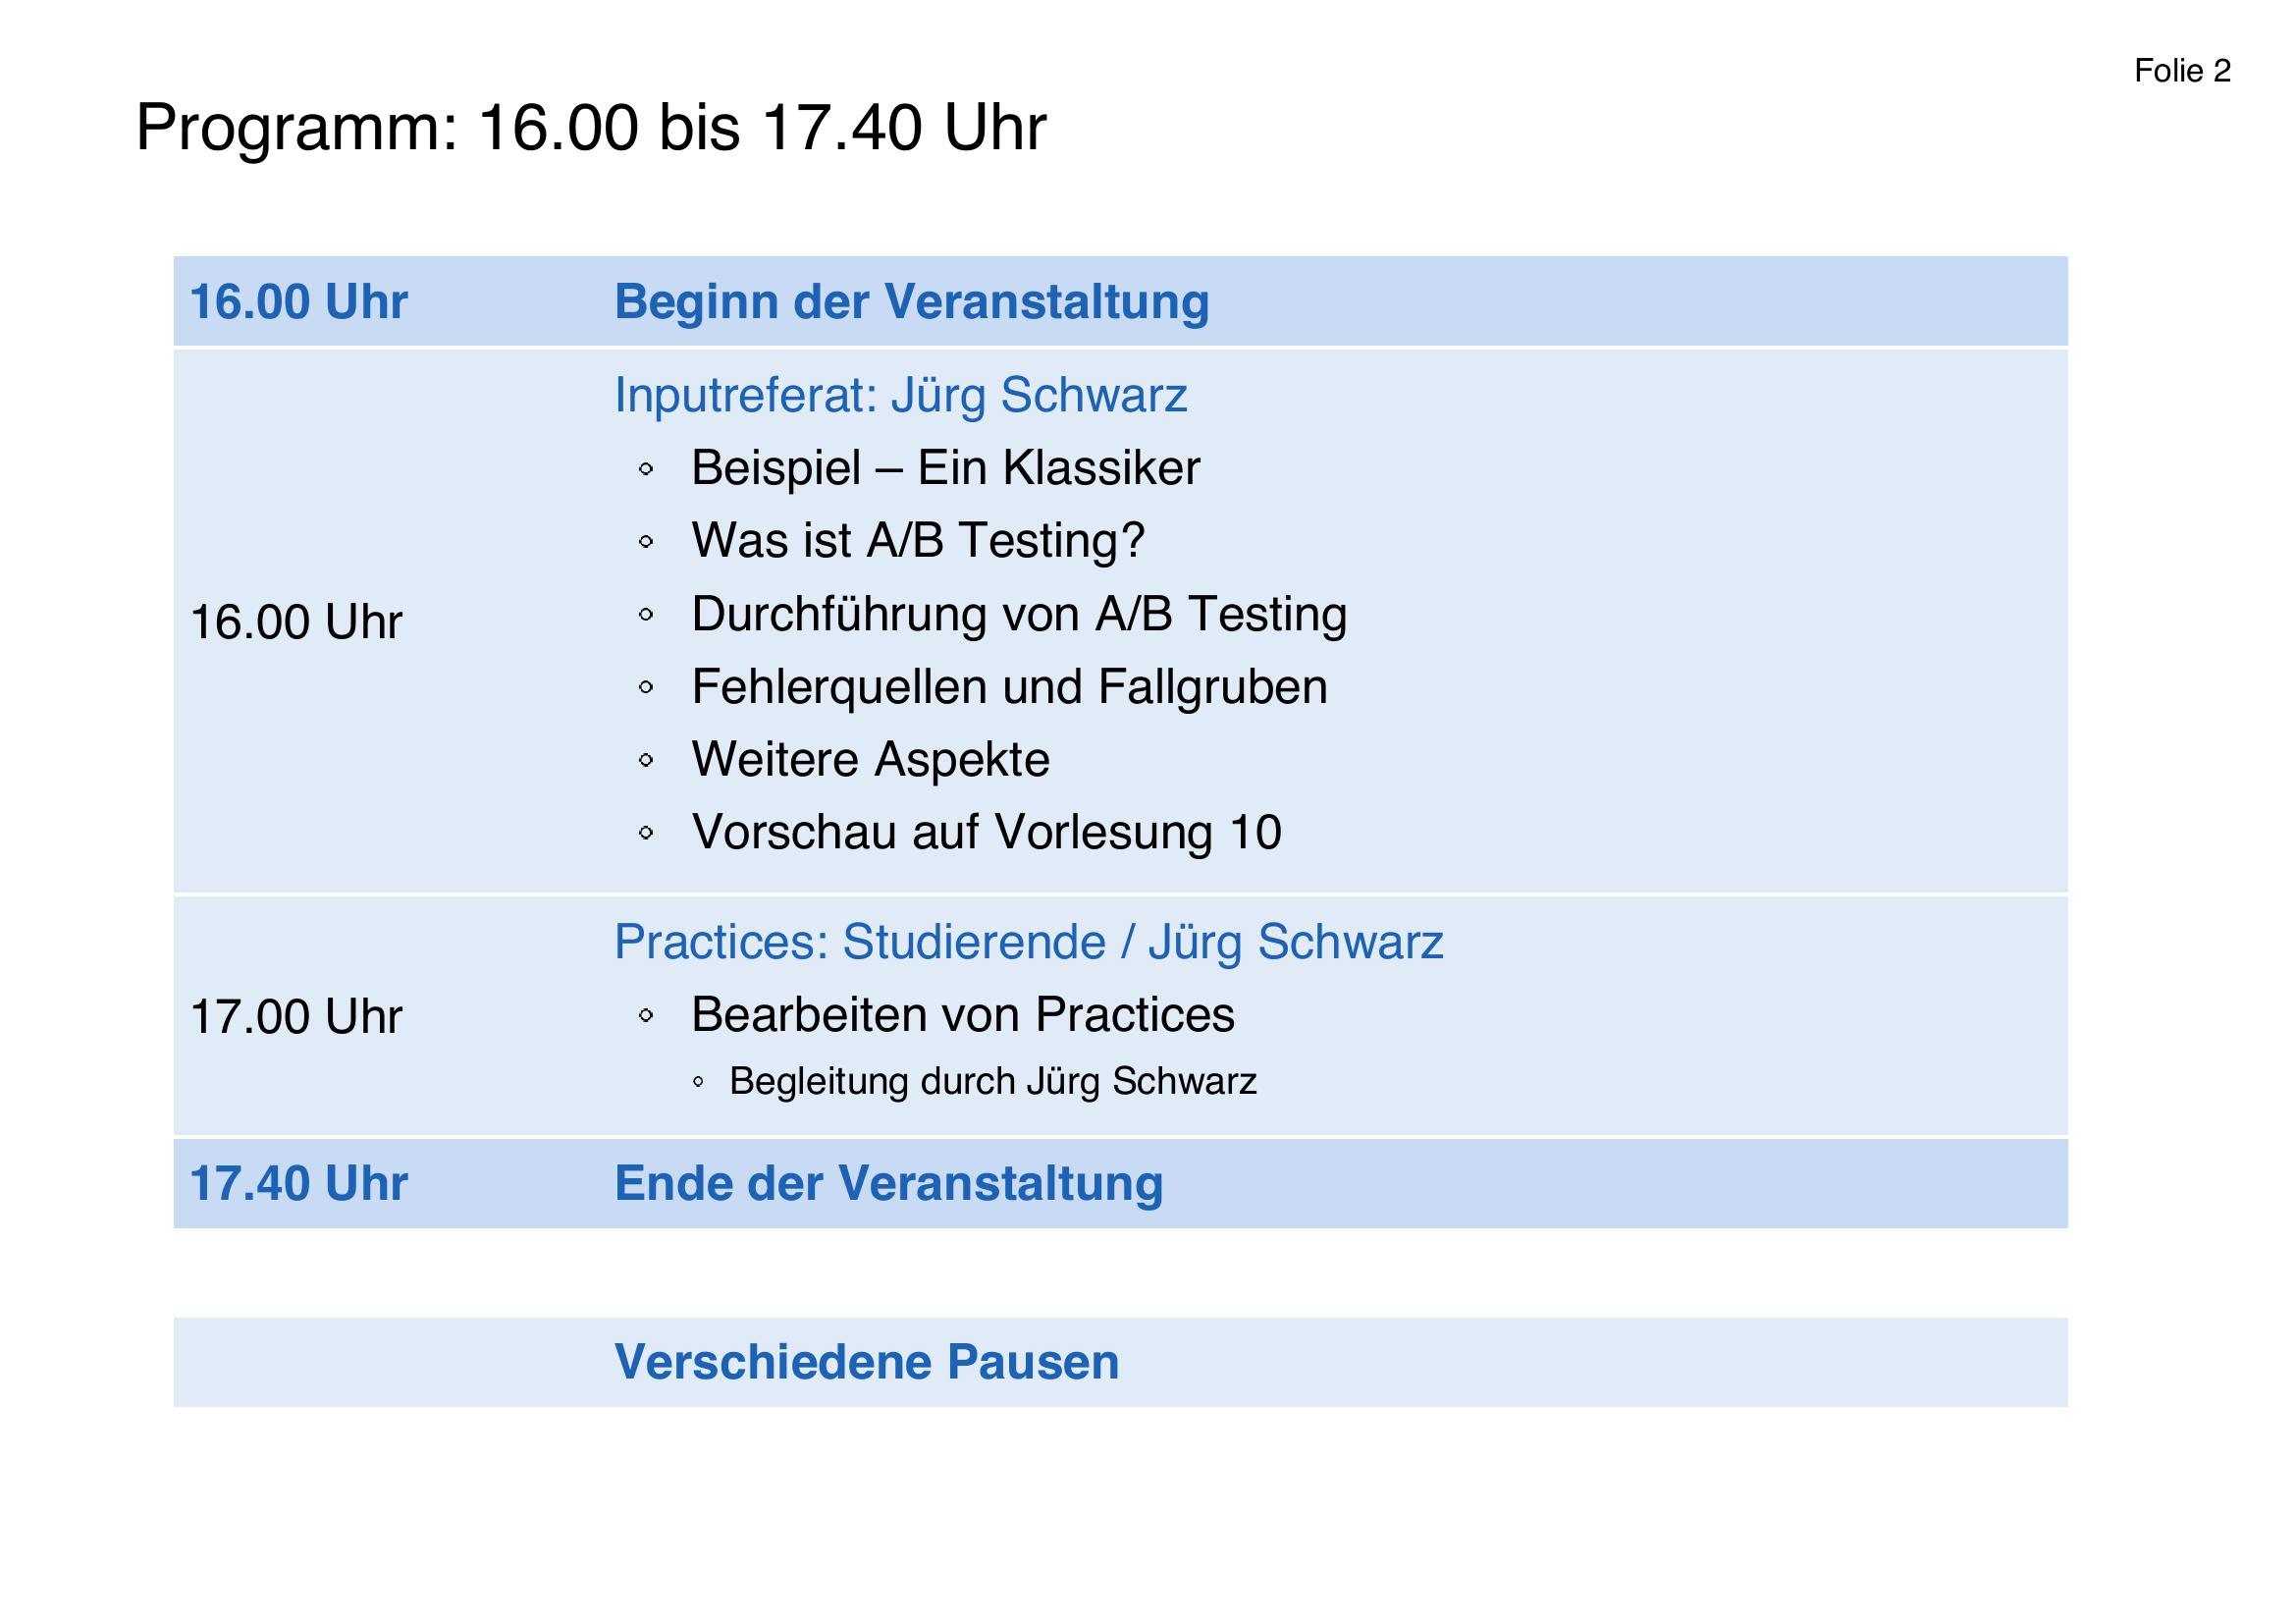Title: (119, 81, 1062, 165)
